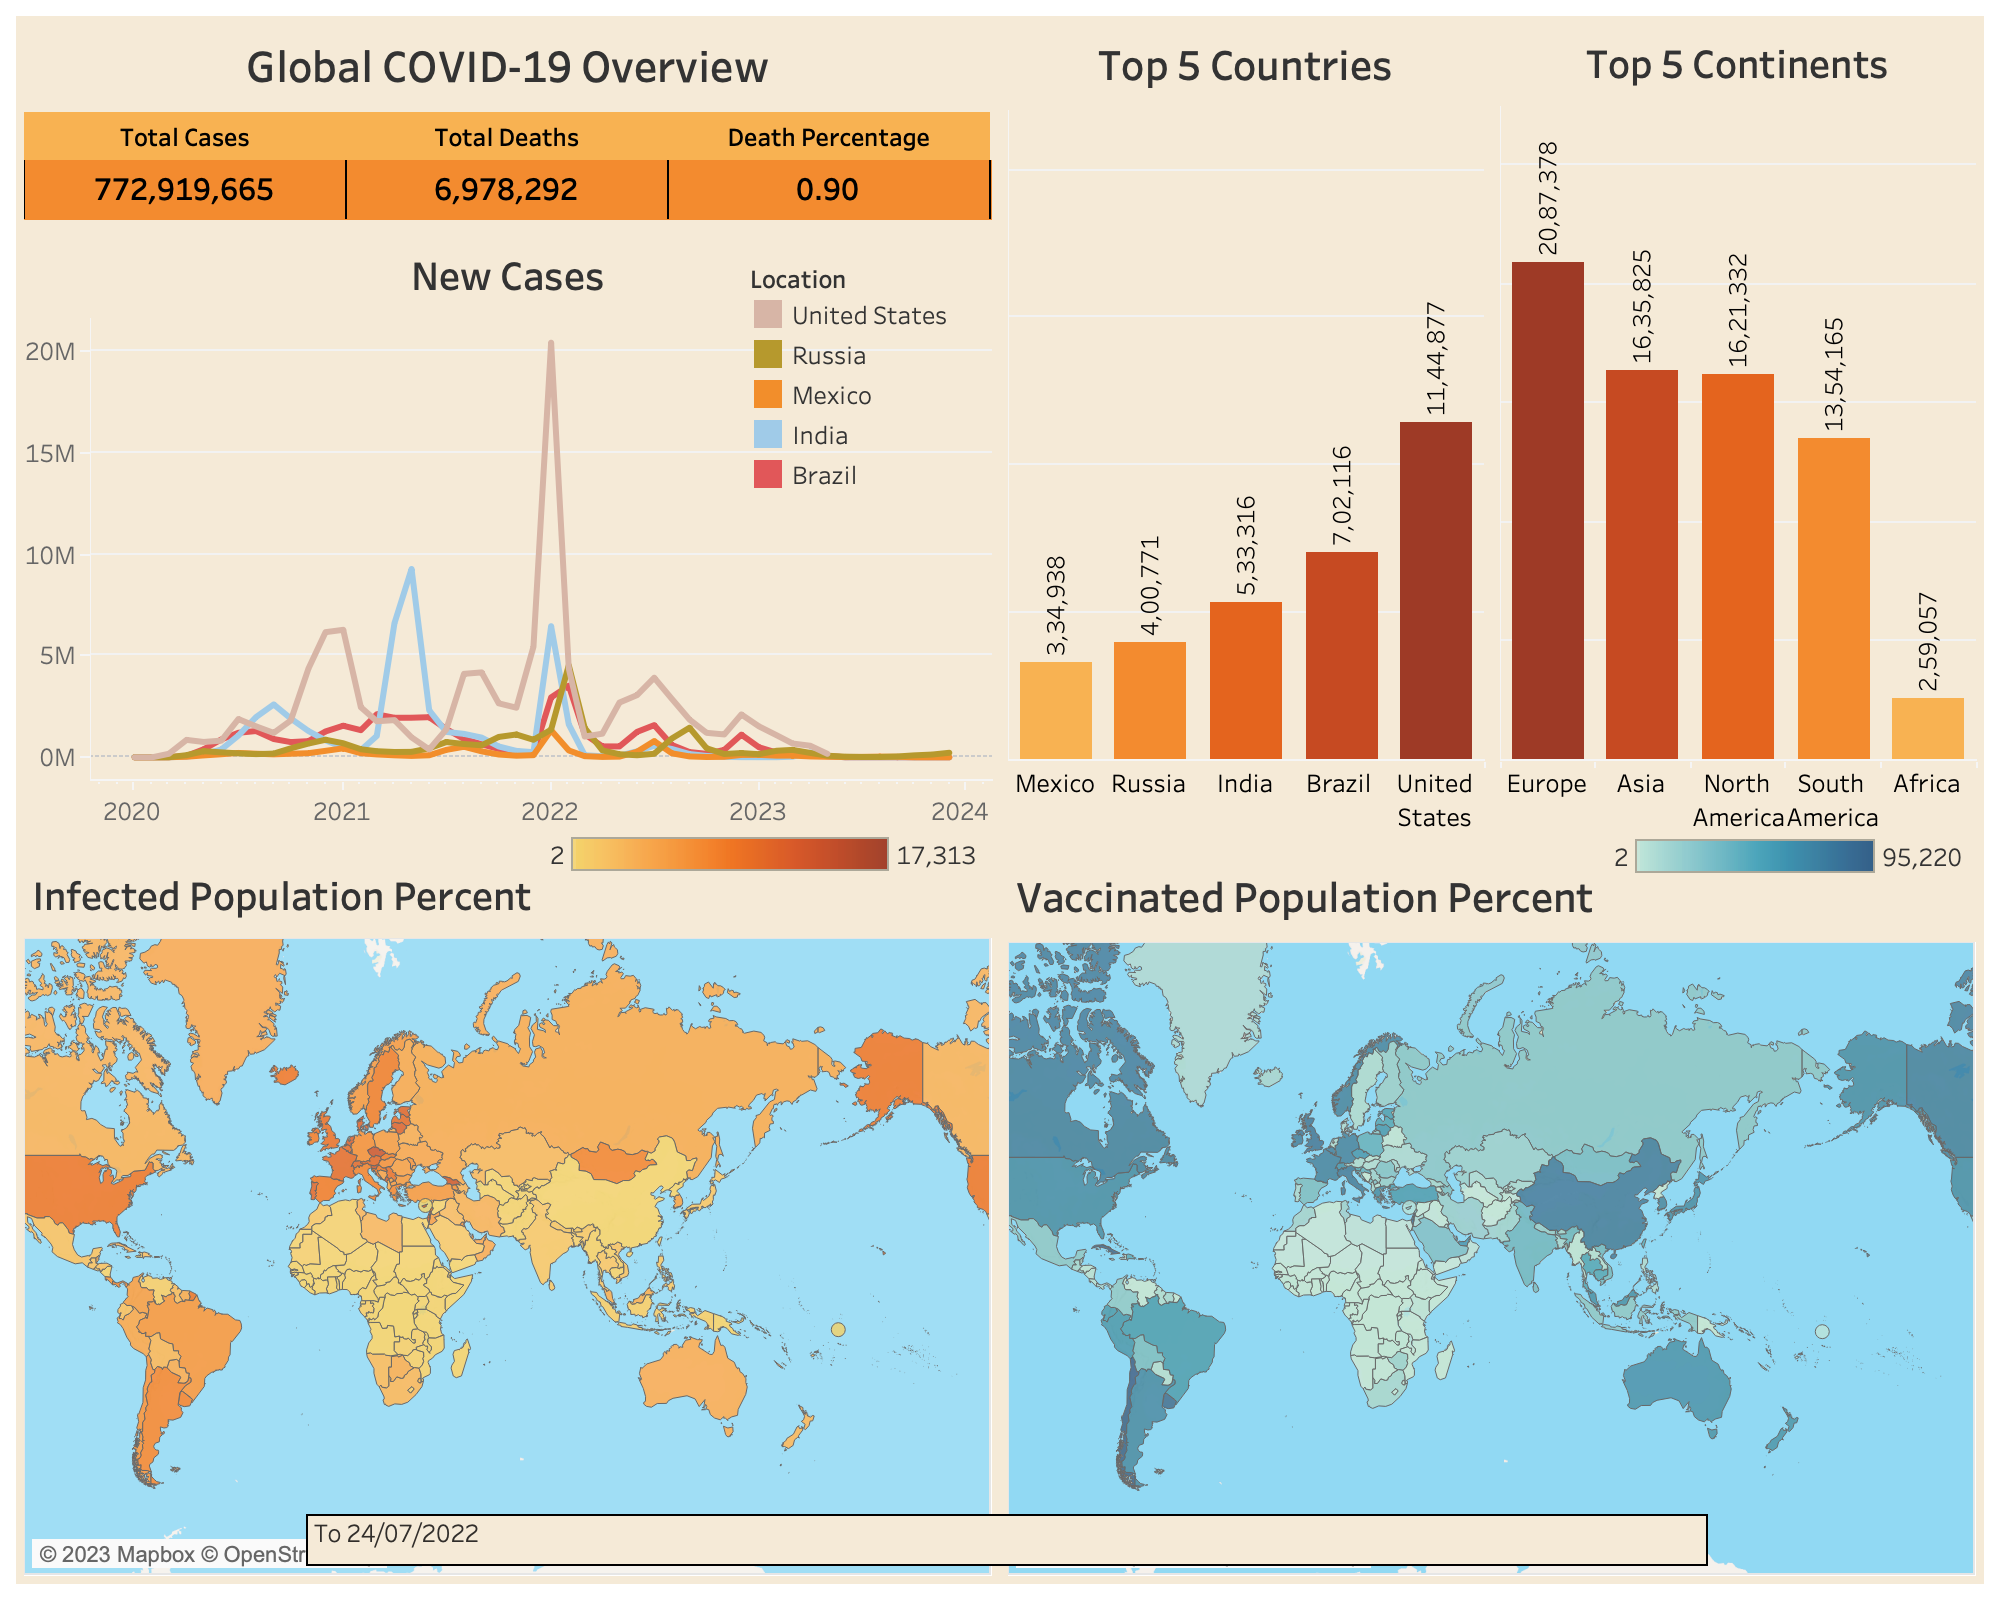

The dashboard page shown, as its layout file describes it:
{"tool":"tableau","page":{"name":"Dashboard 1","canvas":[1000,800],"ordinal":0},"visuals":[{"type":"worksheet","title":"Sheet 1","mark":"Automatic","box":[8,8,492,106]},{"type":"worksheet","title":"Sheet 3","mark":"Automatic","rows":["total_death_count"],"cols":["location"],"box":[500,8,246,416]},{"type":"worksheet","title":"Sheet 2","mark":"Automatic","rows":["max_total_death_count"],"cols":["location"],"box":[746,8,246,416]},{"type":"worksheet","title":"Sheet 6","mark":"Automatic","rows":["new_cases"],"cols":["date"],"box":[8,114,492,310]},{"type":"legend","title":"Sheet 6","param":"[federated.12346ic056fw8e13a9utu0q1gkuj].[none:location:nk]","box":[374,129,126,120]},{"type":"legend","title":"Sheet 4","param":"[federated.1q9xyni0sud9px1fxow3o0tx60pa].[sum:infected_population_percentage:qk]","box":[271,415,222,57]},{"type":"legend","title":"Sheet 5","param":"[federated.02gobqu1mr31hd17r14yq08guh2a].[sum:vacinated_population_percentage:qk","box":[803,416,183,57]},{"type":"worksheet","title":"Sheet 4","mark":"Automatic","box":[8,424,492,368]},{"type":"worksheet","title":"Sheet 5","mark":"Automatic","box":[500,424,492,368]},{"type":"filter","title":"Sheet 4","param":"[federated.1q9xyni0sud9px1fxow3o0tx60pa].[none:date:qk]","box":[153,757,701,26]}]}

Visuals, with their boxes in screenshot pixels (x1, y1, x2, y2), scaled from the page's 1000x800 canvas onto the 2000x1600 screenshot:
"Sheet 1" worksheet: (16, 16, 1000, 228)
"Sheet 3" worksheet: (1000, 16, 1492, 848)
"Sheet 2" worksheet: (1492, 16, 1984, 848)
"Sheet 6" worksheet: (16, 228, 1000, 848)
"Sheet 6" legend: (748, 258, 1000, 498)
"Sheet 4" legend: (542, 830, 986, 944)
"Sheet 5" legend: (1606, 832, 1972, 946)
"Sheet 4" worksheet: (16, 848, 1000, 1584)
"Sheet 5" worksheet: (1000, 848, 1984, 1584)
"Sheet 4" filter: (306, 1514, 1708, 1566)
